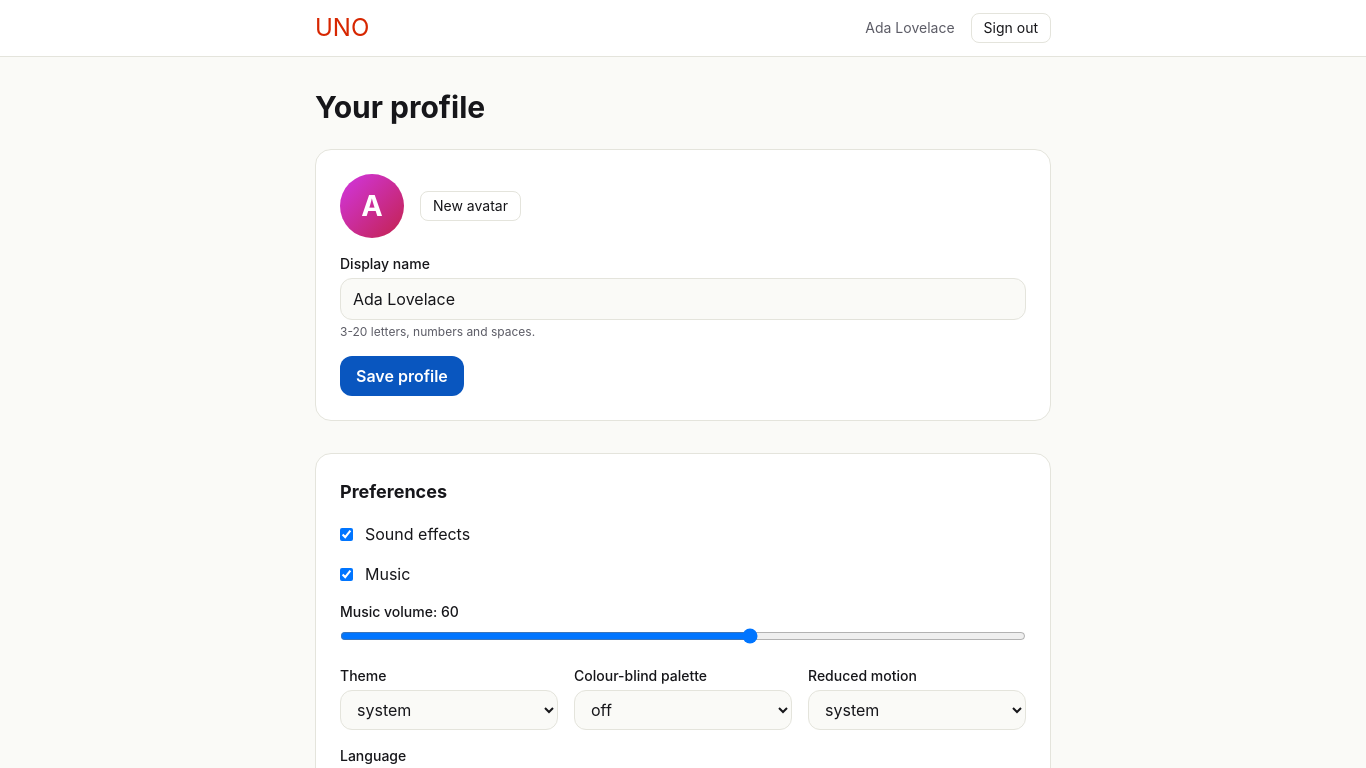
Test case: profile page › saves a new name
The width and height of the screenshot is (1366, 768).
Replace the text in the field labelled "Display name" with "  Grace   Hopper " at (683, 299), box [340,278,1026,320]
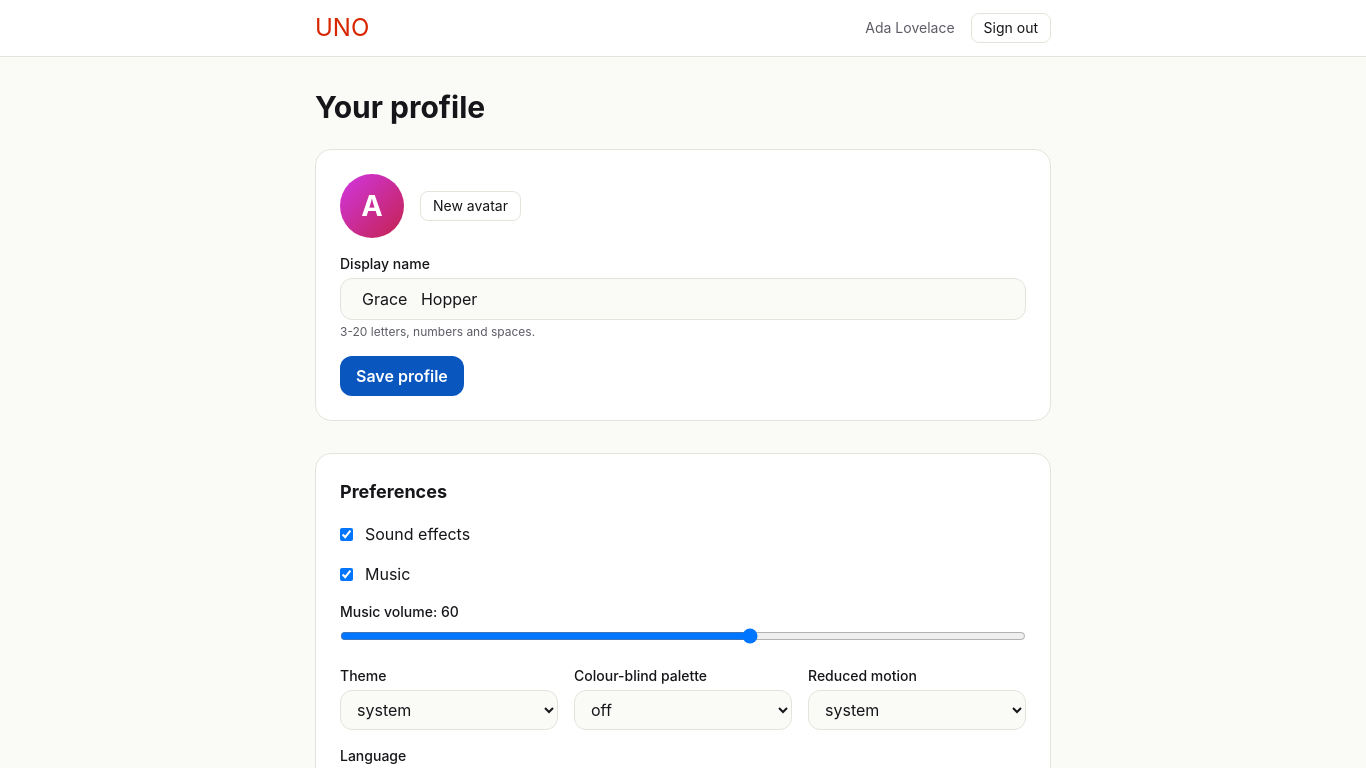
Click the button "Save profile".
click(402, 376)  # box [340,356,464,396]
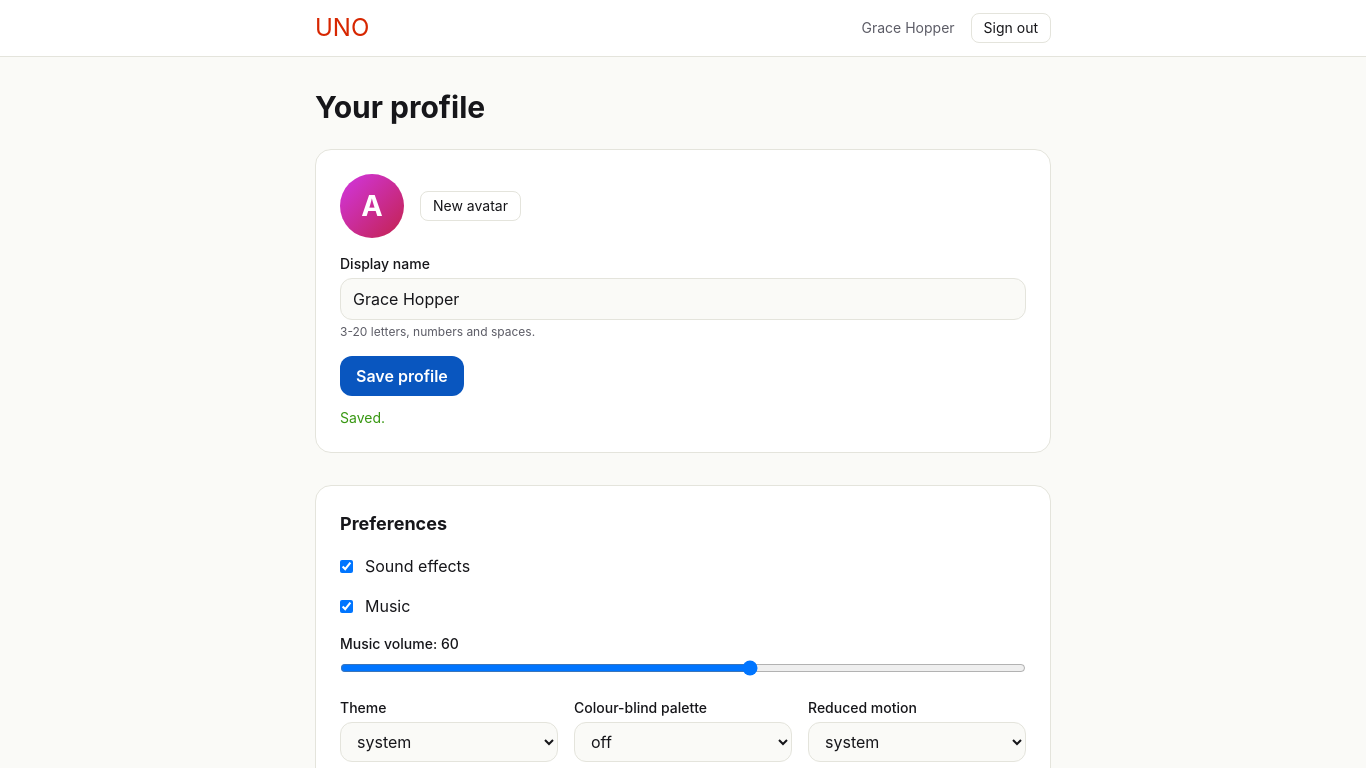
Expected: the text "Saved." is shown, [340,409,385,426]
